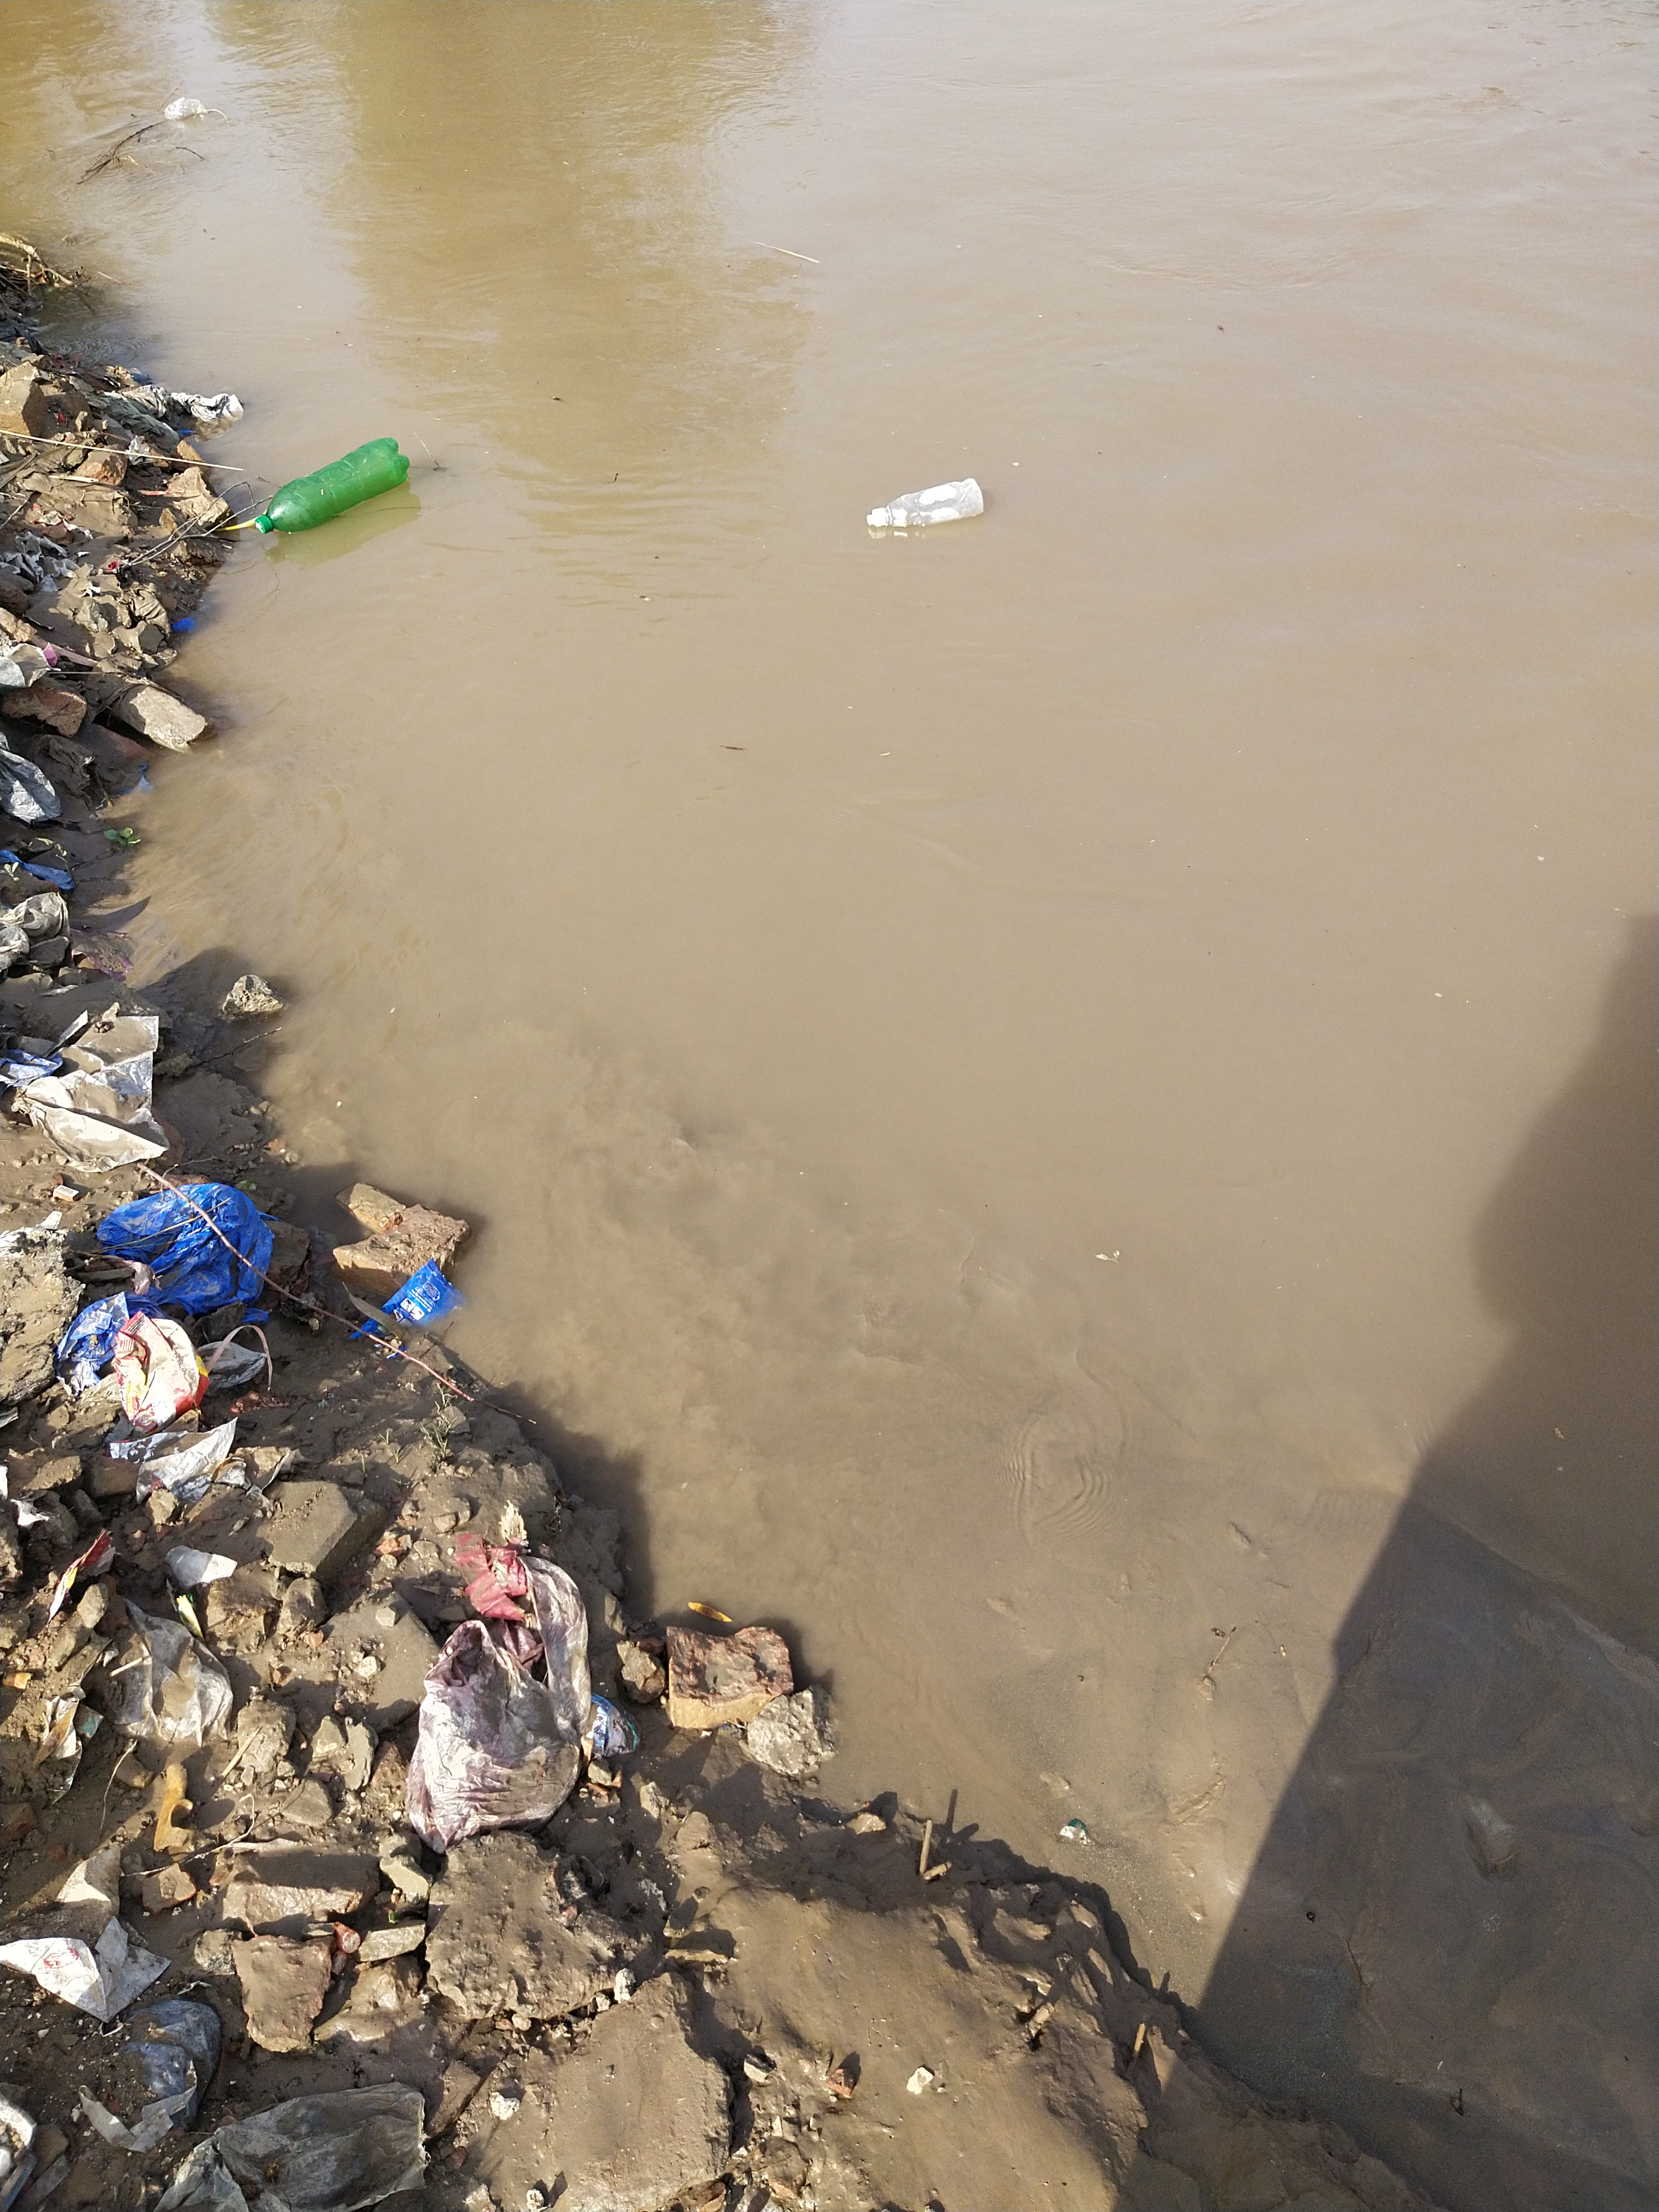Plastic Bottle: (254, 437, 410, 533), (866, 477, 985, 528)
